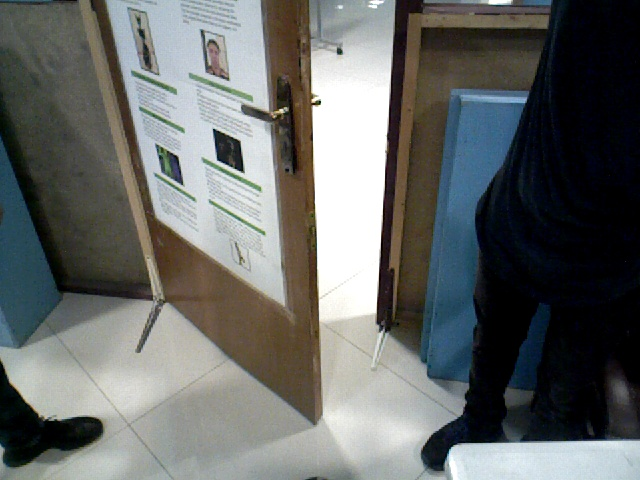door_handle: (241, 74, 309, 180)
